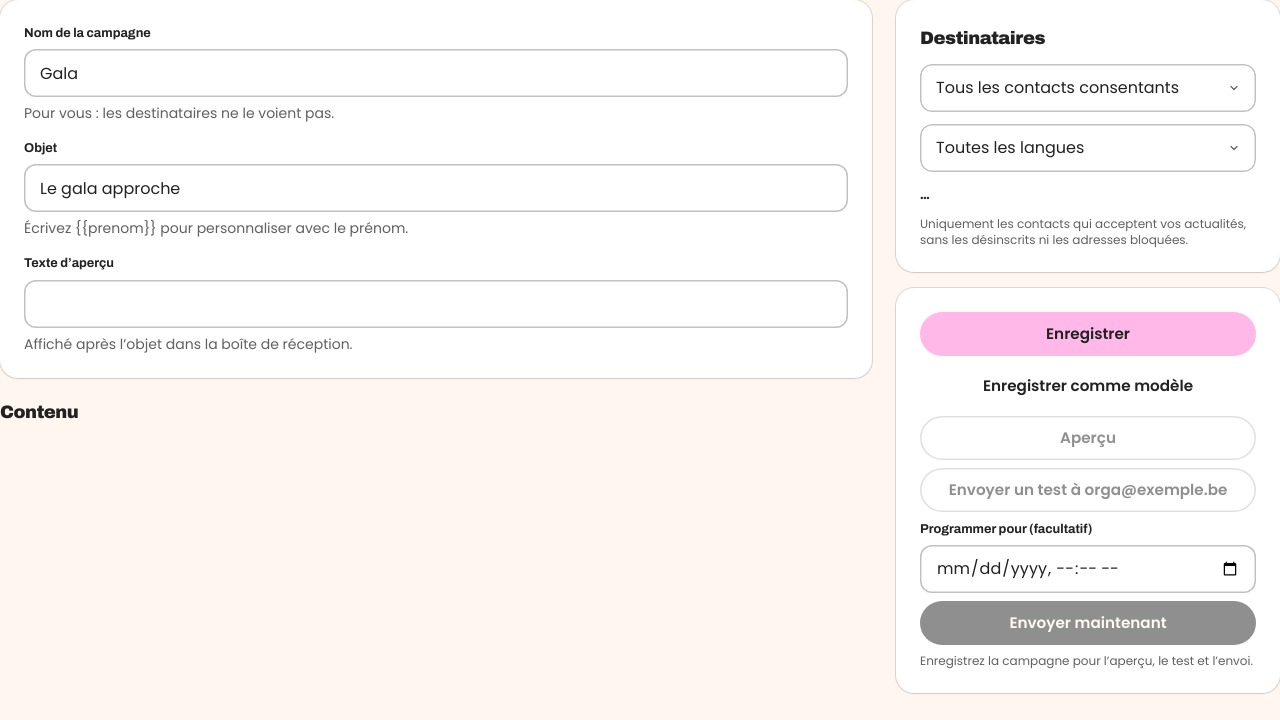
Scenario: campagnes d'e-mails : envoi (US-MKT-03) › enregistrement d'une nouvelle campagne : son adresse définitive ; refus : champs à corriger
The width and height of the screenshot is (1280, 720).
Click the button "Enregistrer": (1088, 334) top-left (920, 312), bottom-right (1256, 356)
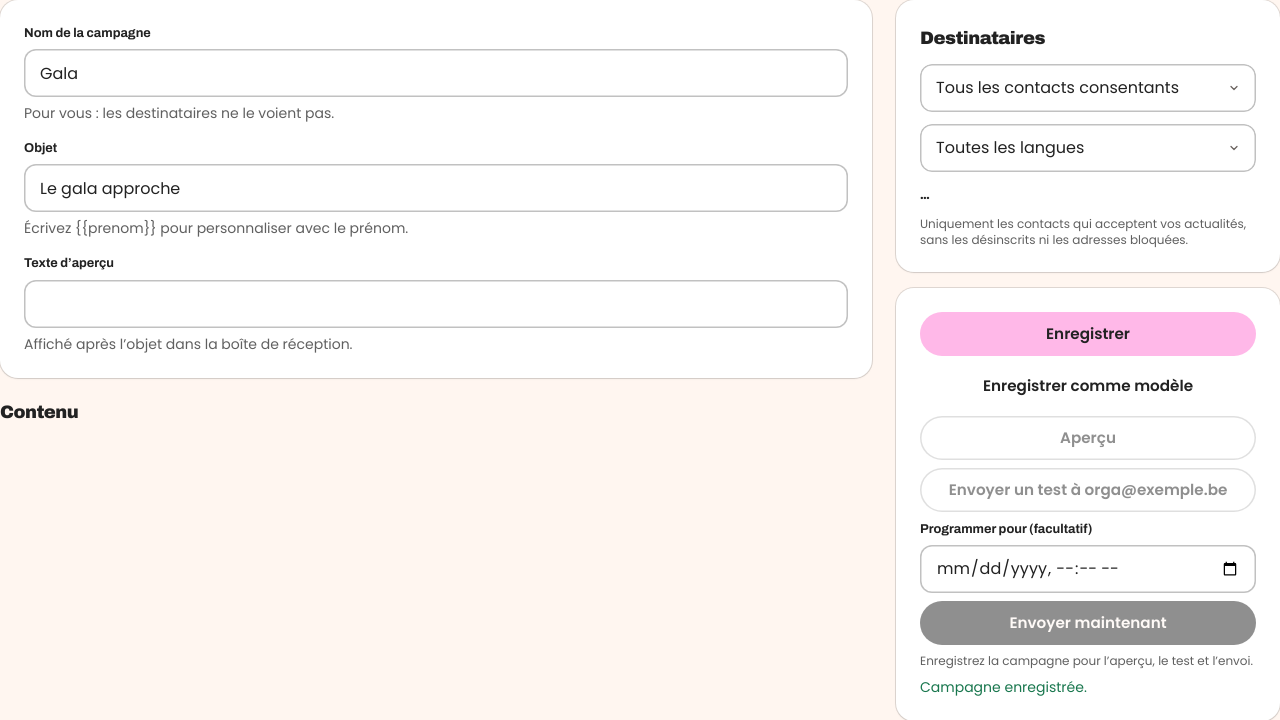
Click the button "Enregistrer": (1088, 334) top-left (920, 312), bottom-right (1256, 356)
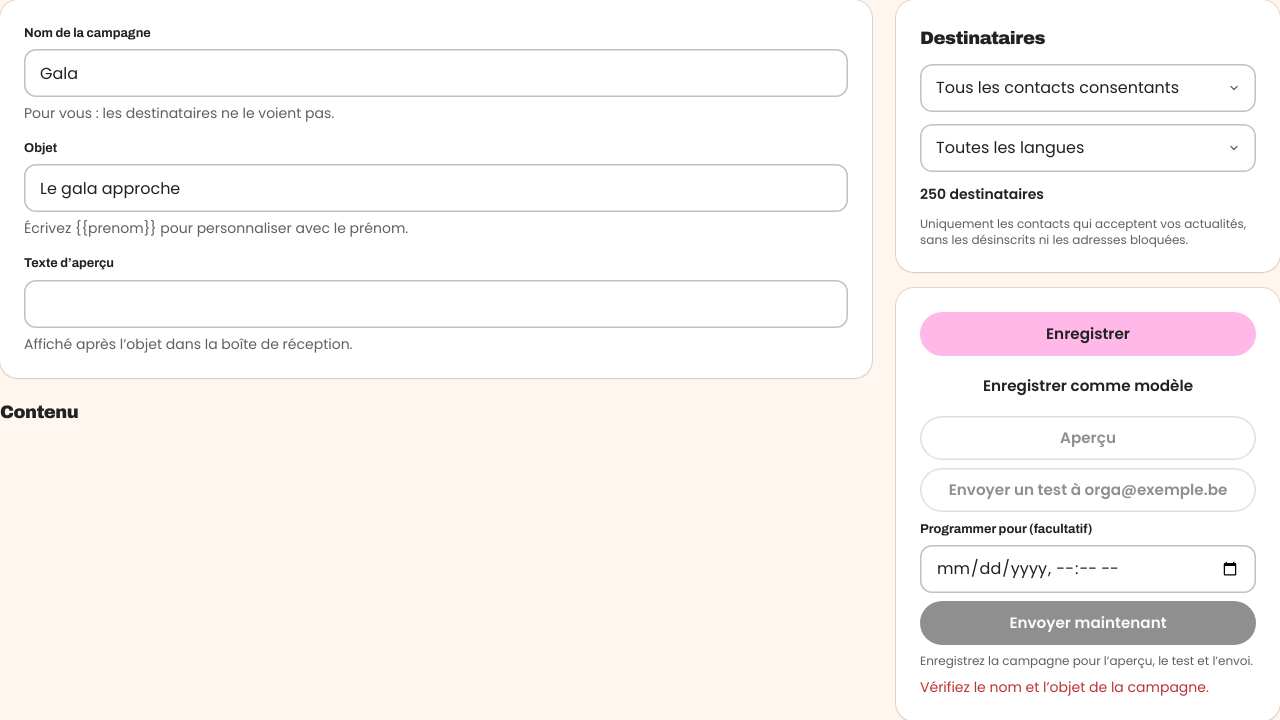
Check: the text "Vérifiez le nom et l’objet de la campagne." is shown, box top-left (920, 677), bottom-right (1256, 697)
